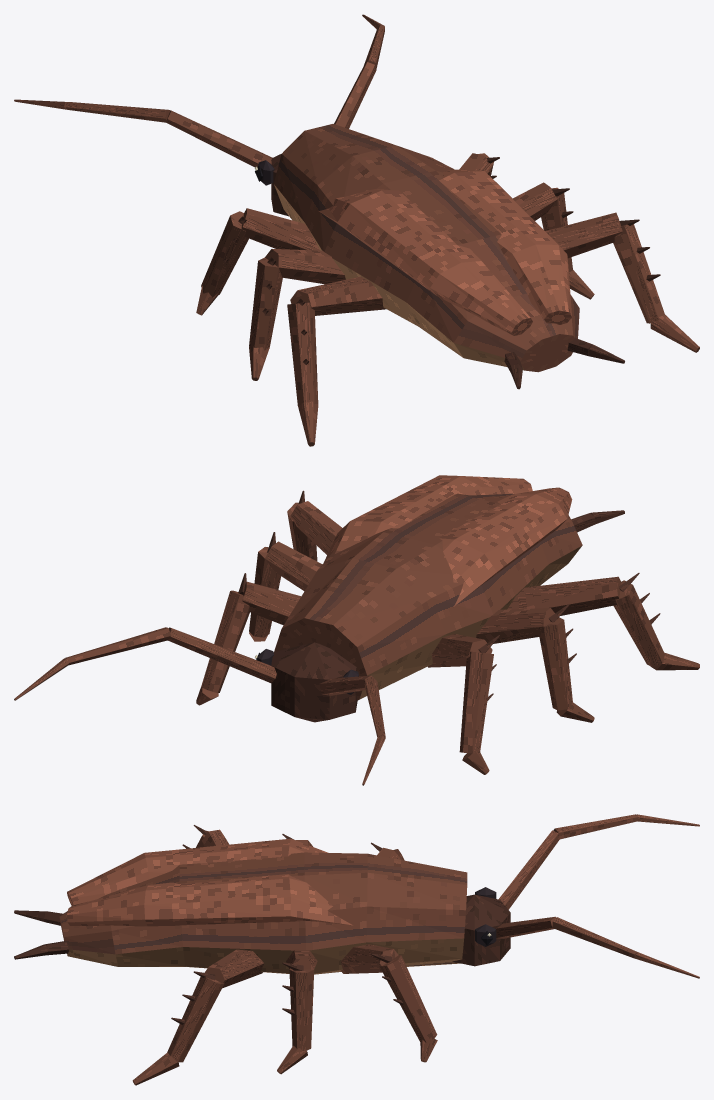
File: mon_giant_cockroach.glb
3 renders of one model, top to bottom at view 1: azimuth 30°, elevation 25°; view 2: azimuth 150°, elevation 25°; view 3: azimuth 270°, elevation 25°, orthographic. The views are drawn at different scales.
Visible parts, largest first — view 1: closed_body; view 2: closed_body; view 3: closed_body.
Boxes of the visible parts, box(x1,y1,x2,y2) form: closed_body: box(14, 14, 699, 446); closed_body: box(14, 475, 699, 785); closed_body: box(14, 814, 699, 1085).
Size of the model in its own units: 0.9102 by 0.3433 by 1.54.
1 material, 1 textured.
